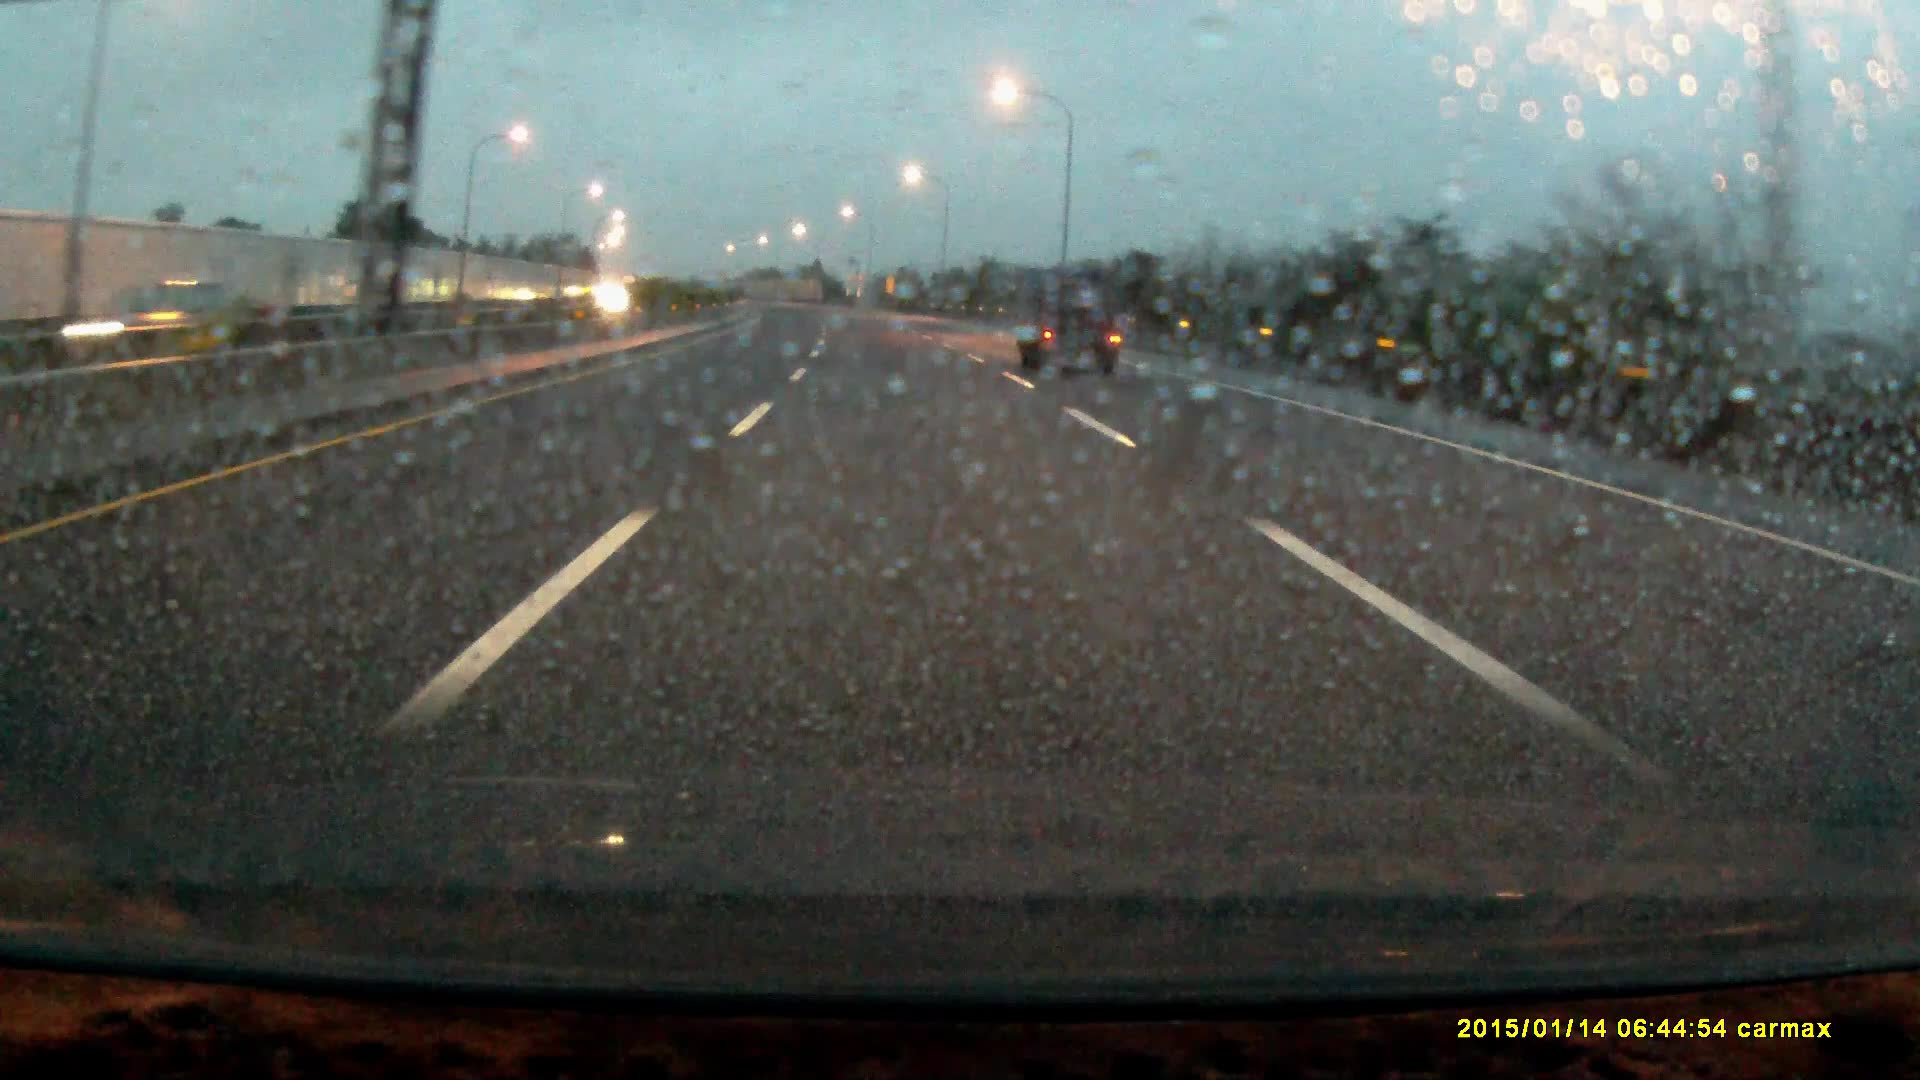vehicle: (7, 278, 227, 376), (1015, 274, 1121, 377), (567, 280, 637, 316)
